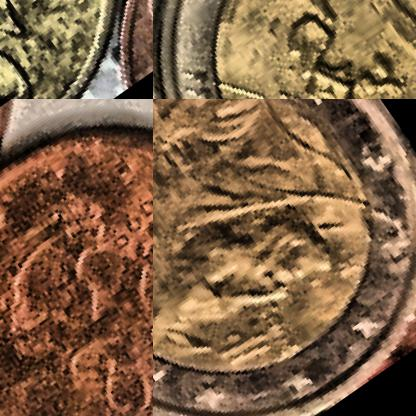coin: (153, 99, 415, 415), (0, 99, 152, 415), (153, 0, 415, 98), (0, 0, 152, 98)
